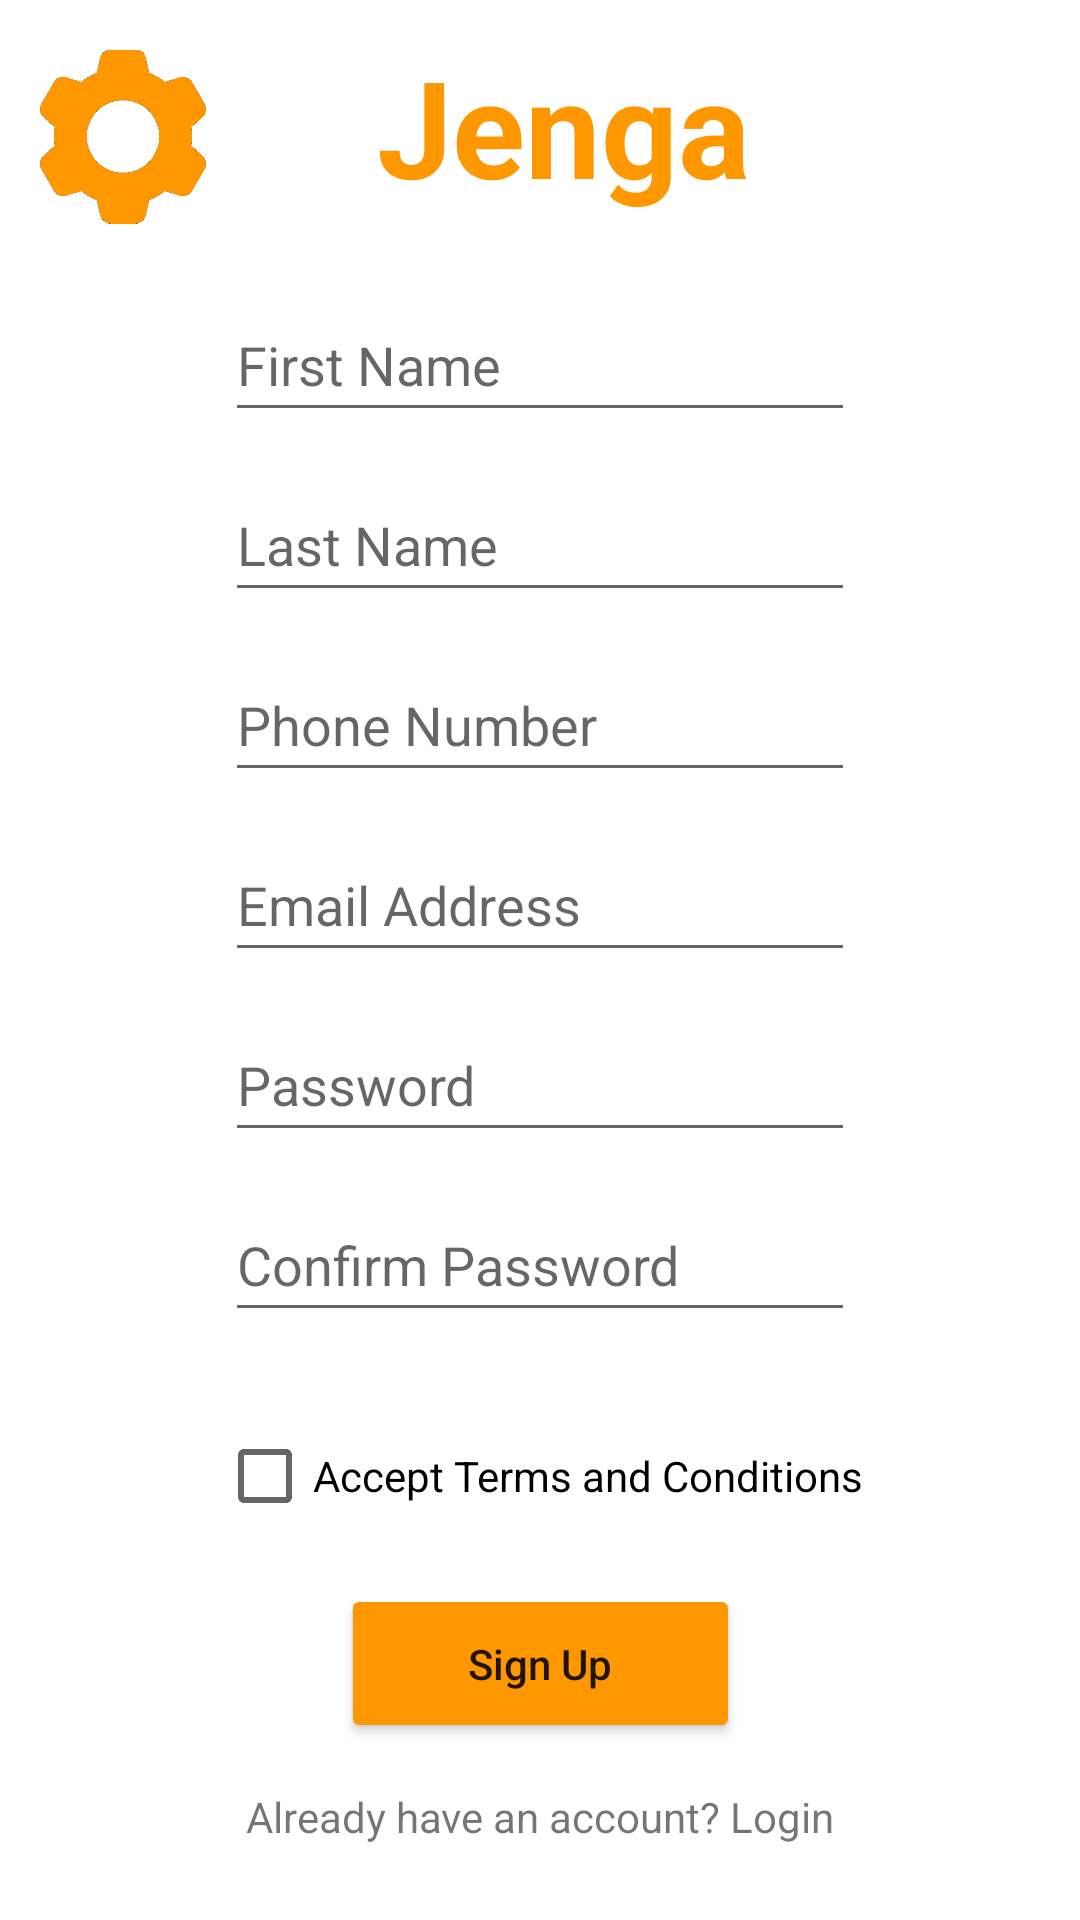

Screen size 1080×1920. Icon name, then its box in pixels as box=[x1, y1, x2, y2]:
cogwheel: box=[40, 50, 206, 224]
